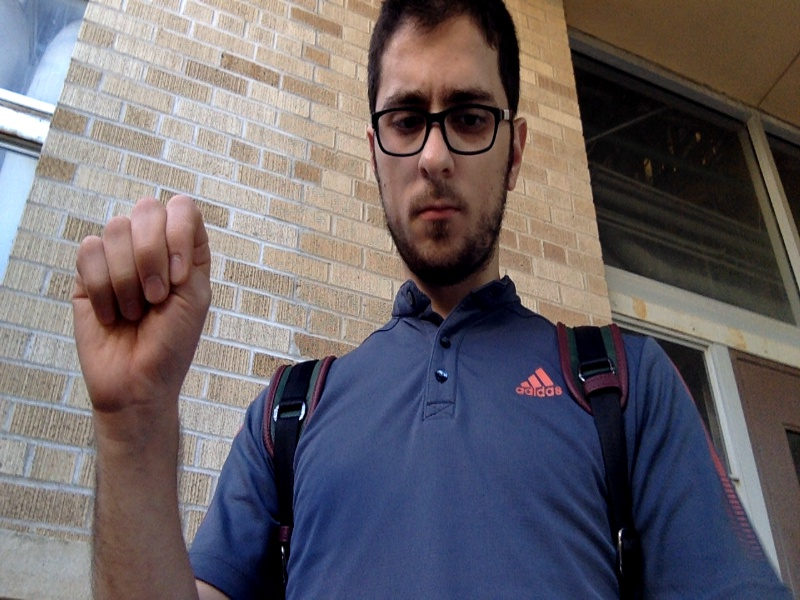0-hand: (74, 196, 213, 409)
